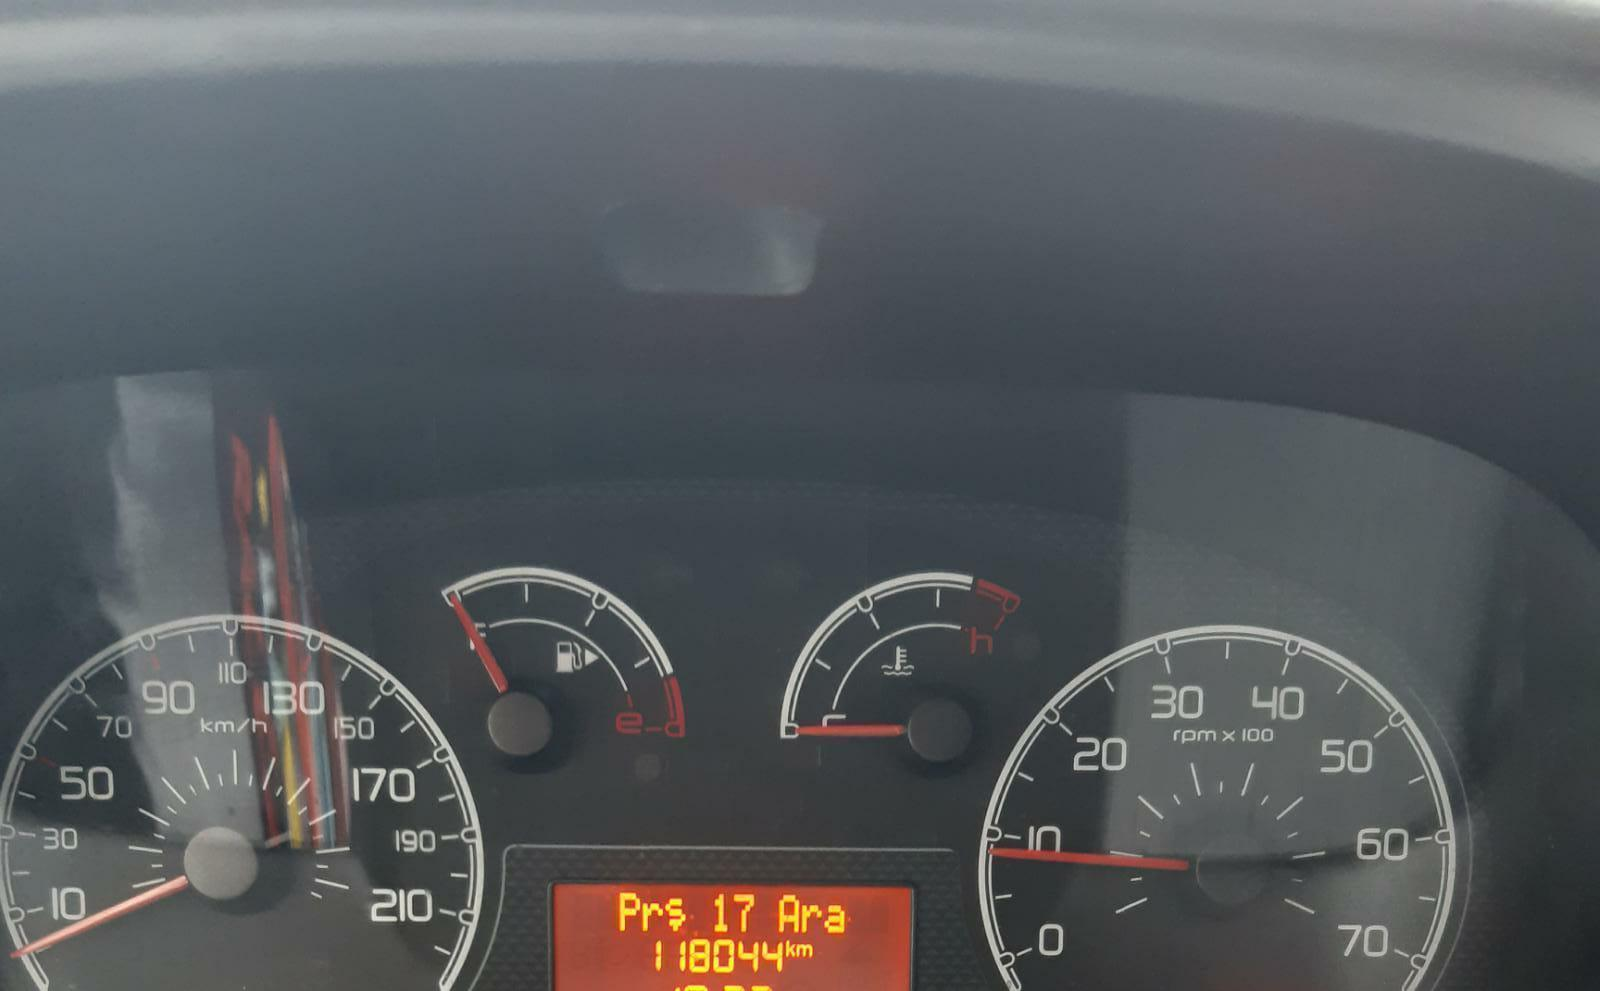0: (712, 938, 734, 974)
1: (713, 892, 727, 932), (677, 940, 686, 972), (654, 940, 662, 973)
4: (736, 940, 759, 973), (760, 940, 783, 973)
7: (731, 893, 755, 933)
8: (688, 938, 710, 973)
X: (617, 892, 641, 932), (777, 893, 799, 934), (664, 898, 685, 932), (823, 904, 845, 934), (800, 904, 822, 934), (641, 902, 663, 932), (795, 942, 811, 958), (784, 940, 795, 958)
odometer: (547, 879, 918, 991)
